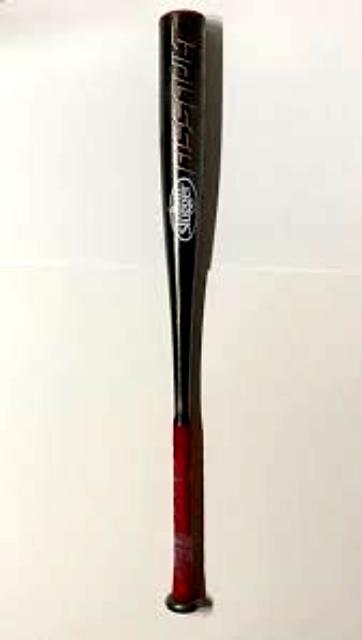baseball bat: (157, 6, 223, 612)
